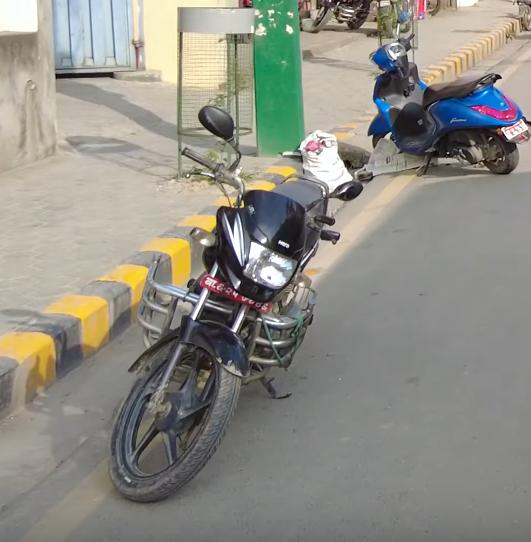bike: (102, 103, 366, 511)
